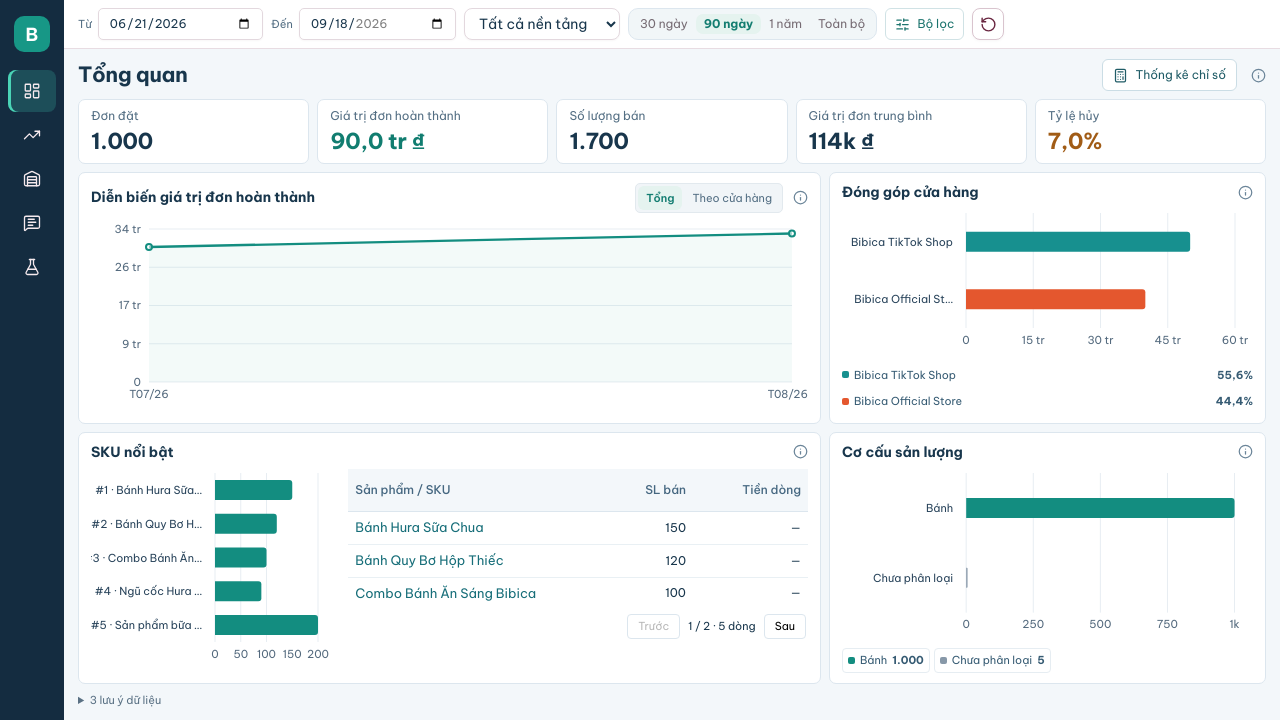
Scenario: các trang dựng được với dữ liệu theo hợp đồng API › overview keeps extra calculations in an on-demand modal and removes the month dropdown
Expected: the heading "SKU nổi bật" is shown, [91,442,174,461]
Click the button "Thống kê chỉ số". click: (1170, 75)
box: [1102,59,1237,91]
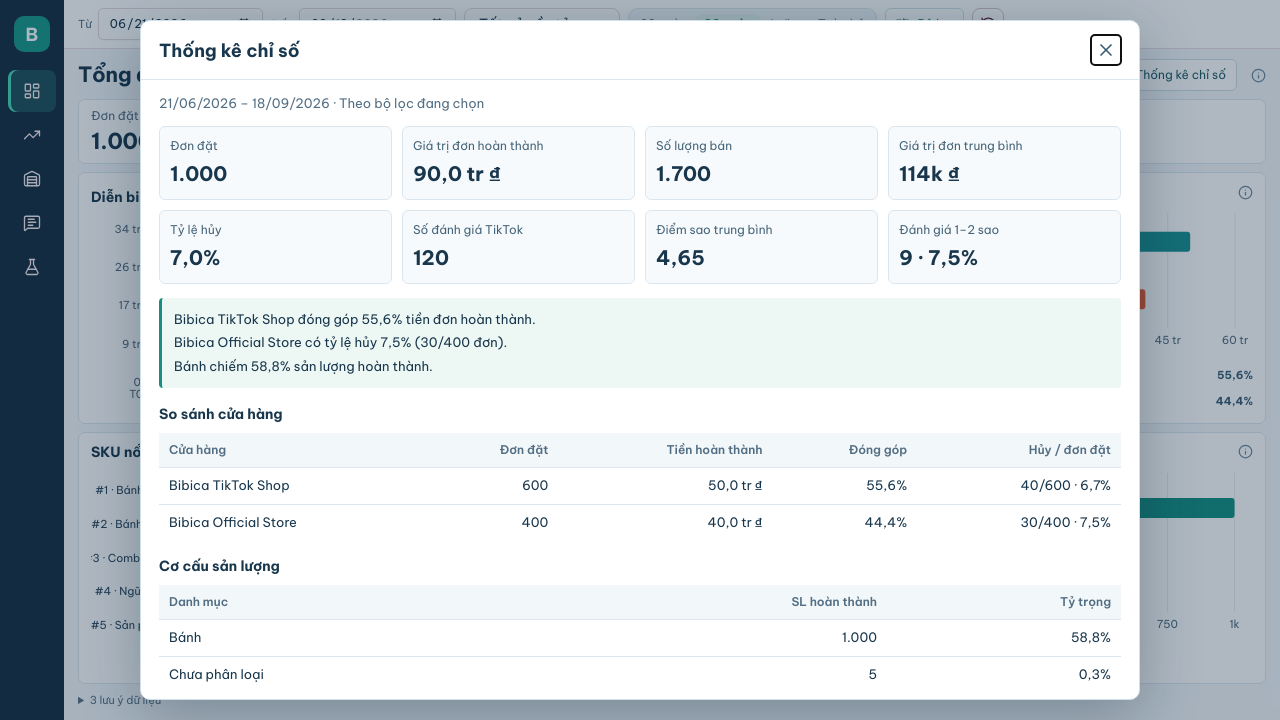
Expected: the heading "So sánh cửa hàng" is shown, [159,405,283,423]
Expected: the dialog "Thống kê chỉ số" is shown
Press Escape
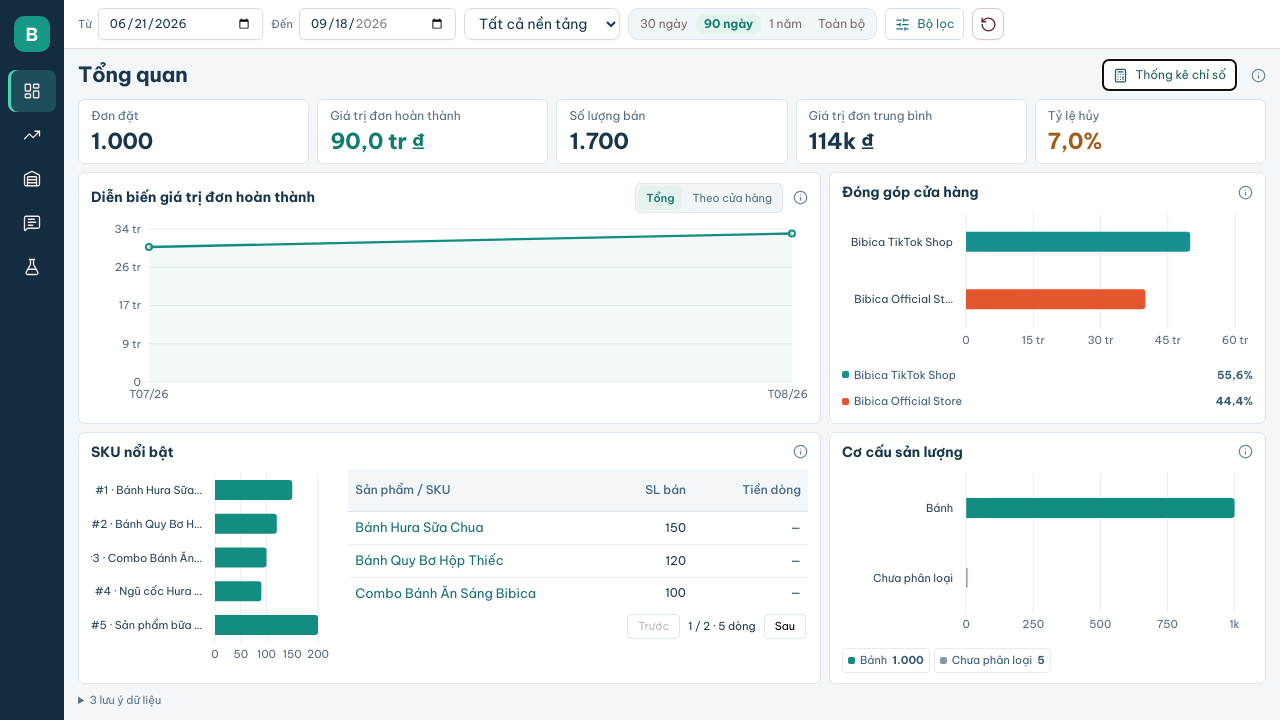
Expected: the button "Thống kê chỉ số" is shown, [1102,59,1237,91]
Expected: the dialog is gone
